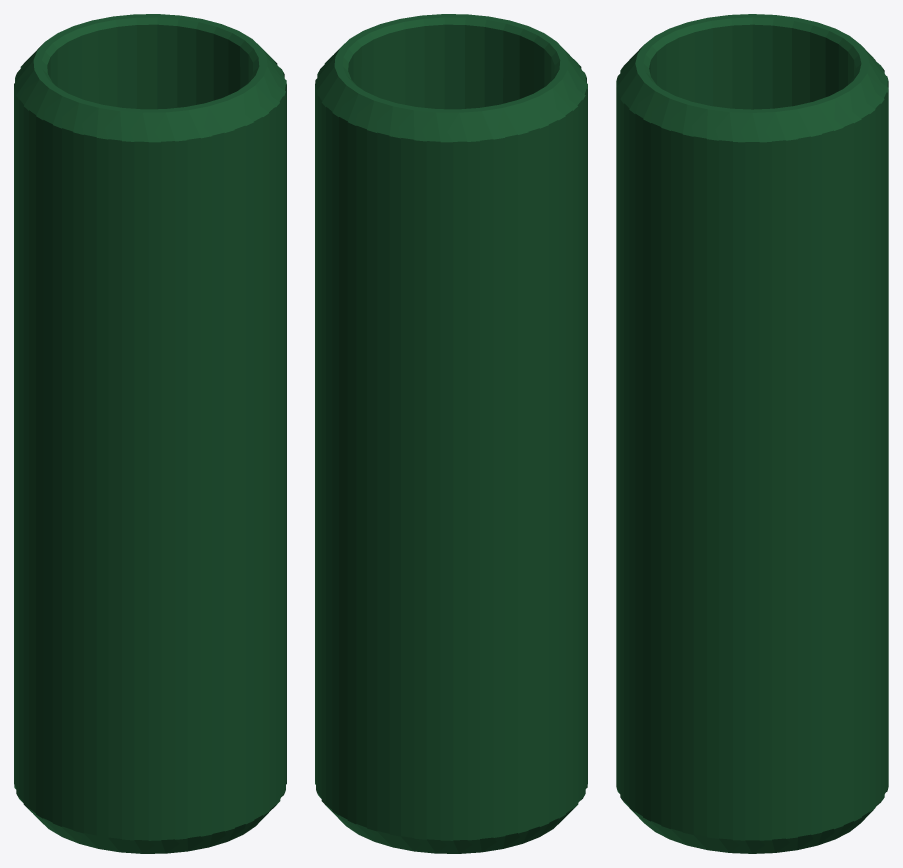
The picture shows the model from 3 angles, left to right: view 1: azimuth 30°, elevation 25°; view 2: azimuth 150°, elevation 25°; view 3: azimuth 270°, elevation 25°; orthographic projection.
Parts seen in each view (by area): view 1: 柱体.001; view 2: 柱体.001; view 3: 柱体.001.
Part boxes in pixels (x1,y1,x2,y2): 柱体.001: [14, 14, 286, 853]; 柱体.001: [315, 14, 587, 853]; 柱体.001: [616, 14, 888, 853].
Size of the model in its own units: 200 by 600 by 200.
